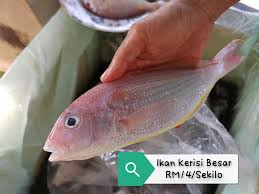Ikan Kerisi: (37, 45, 259, 166)
